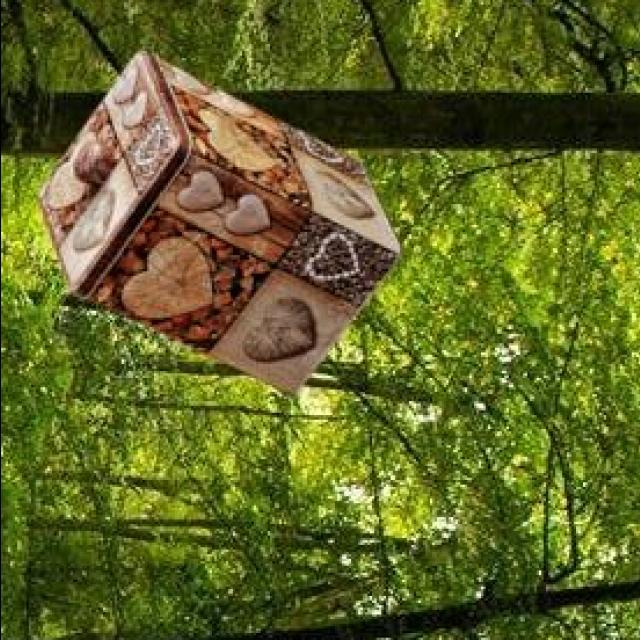logam: (43, 54, 402, 398)
